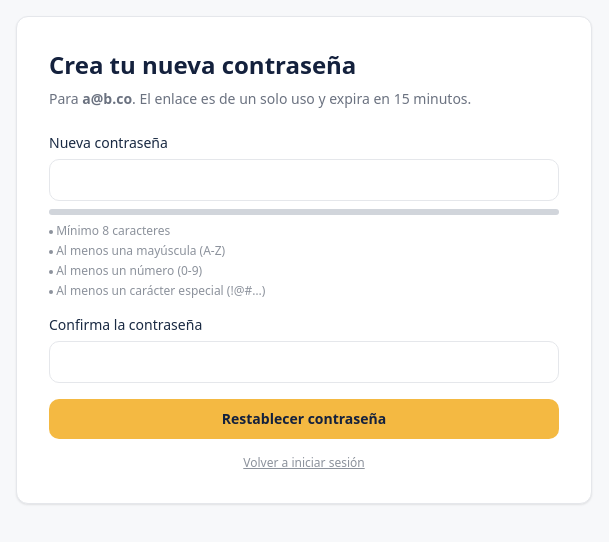
it: Restablecer (fortaleza v13 + un solo uso) › avisa cuando no coinciden
Type "Segura1!x" into the password field labelled "Nueva contraseña" at (304, 180), box left=49, top=159, right=559, bottom=201
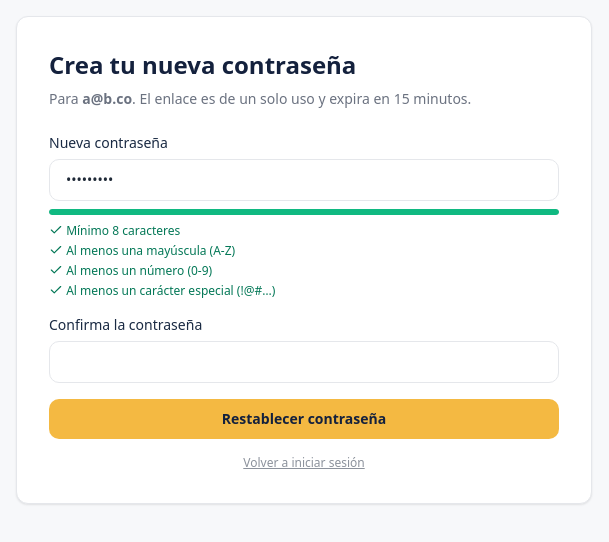
Type "Otra1!x" into the password field labelled "Confirma la contraseña" at (304, 362), box left=49, top=341, right=559, bottom=383
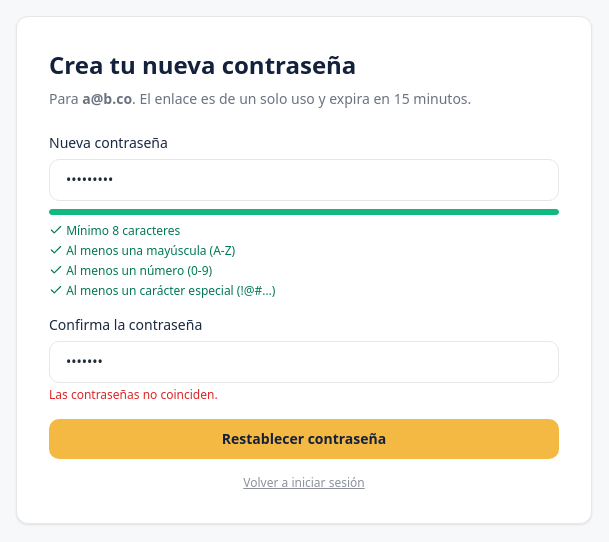
expect the text "Las contraseñas no coinciden." is shown: met, box left=49, top=386, right=218, bottom=403
